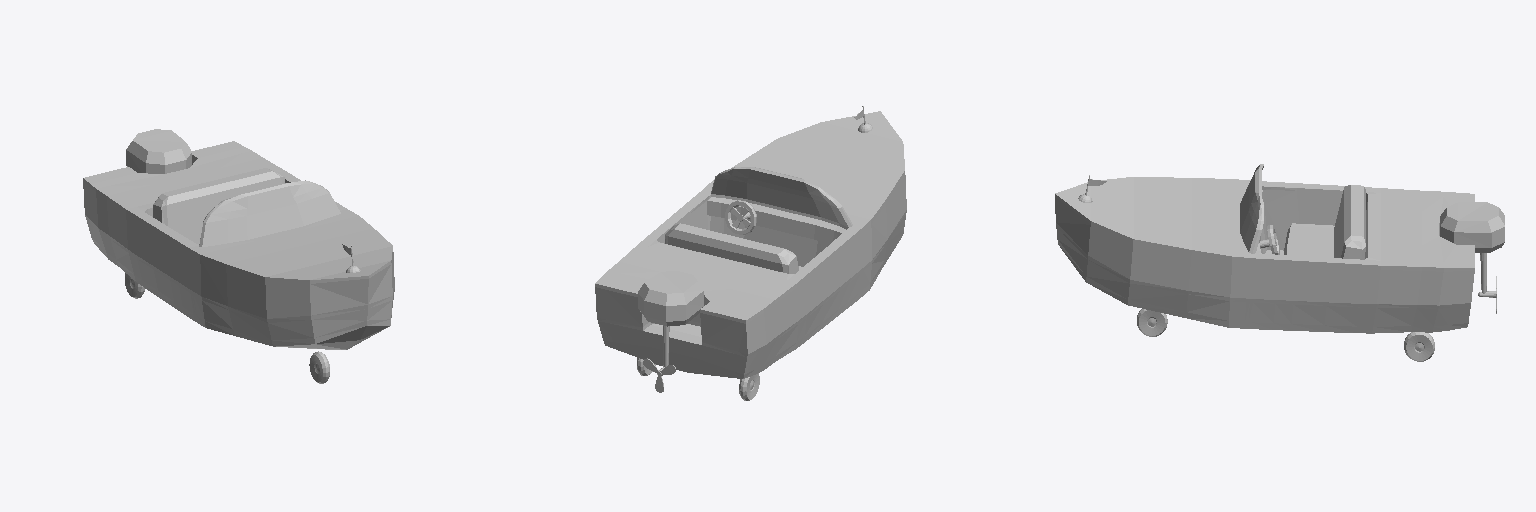
File: Boat.obj
The picture shows the model from 3 angles: view 1: azimuth 30°, elevation 25°; view 2: azimuth 150°, elevation 25°; view 3: azimuth 270°, elevation 25°; orthographic projection.
Parts seen in each view (by area): view 1: pCylinder10; view 2: pCylinder10; view 3: pCylinder10.
Part boxes in pixels (x1,y1,x2,y2): pCylinder10: (83, 129, 394, 383); pCylinder10: (595, 106, 906, 400); pCylinder10: (1055, 164, 1504, 361).
Bounding box in the file's own units: 1.37 × 1.33 × 3.37.